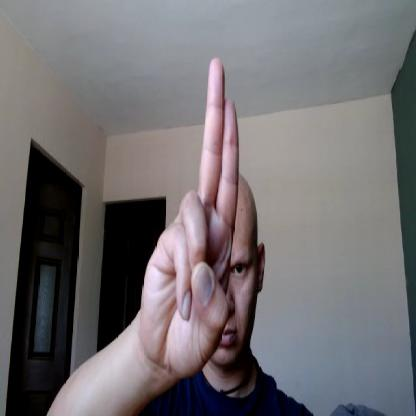U: (141, 57, 240, 373)
